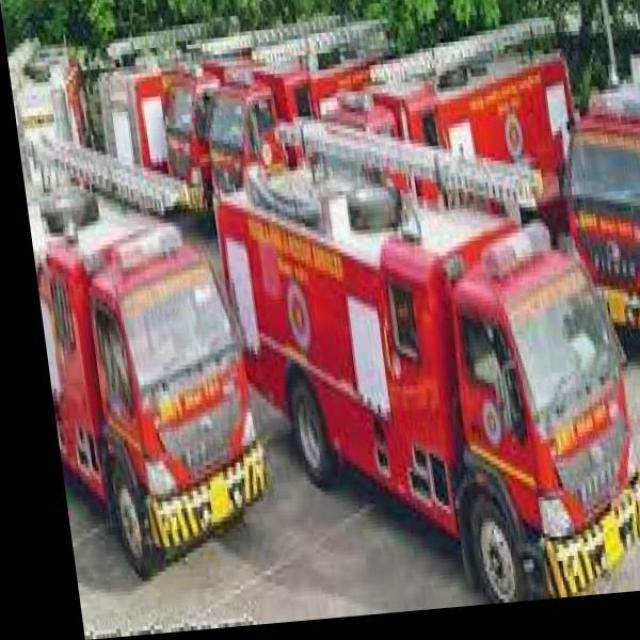emergency: (212, 114, 636, 606), (34, 208, 272, 580), (318, 16, 574, 228), (202, 16, 404, 220), (165, 14, 343, 226), (96, 18, 258, 184), (563, 72, 639, 338), (1, 37, 100, 181)
